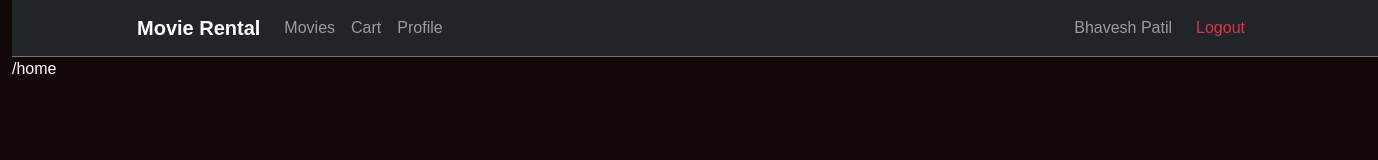
Test: AppNavBar › Cart link navigates to cart page
Step 1. Click the link "Cart" → (366, 28), box [351, 19, 381, 36]
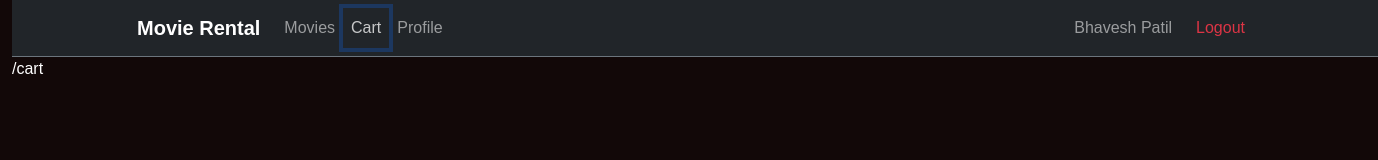
Now the text with test id "location" reads "/cart", box [12, 60, 43, 77]
